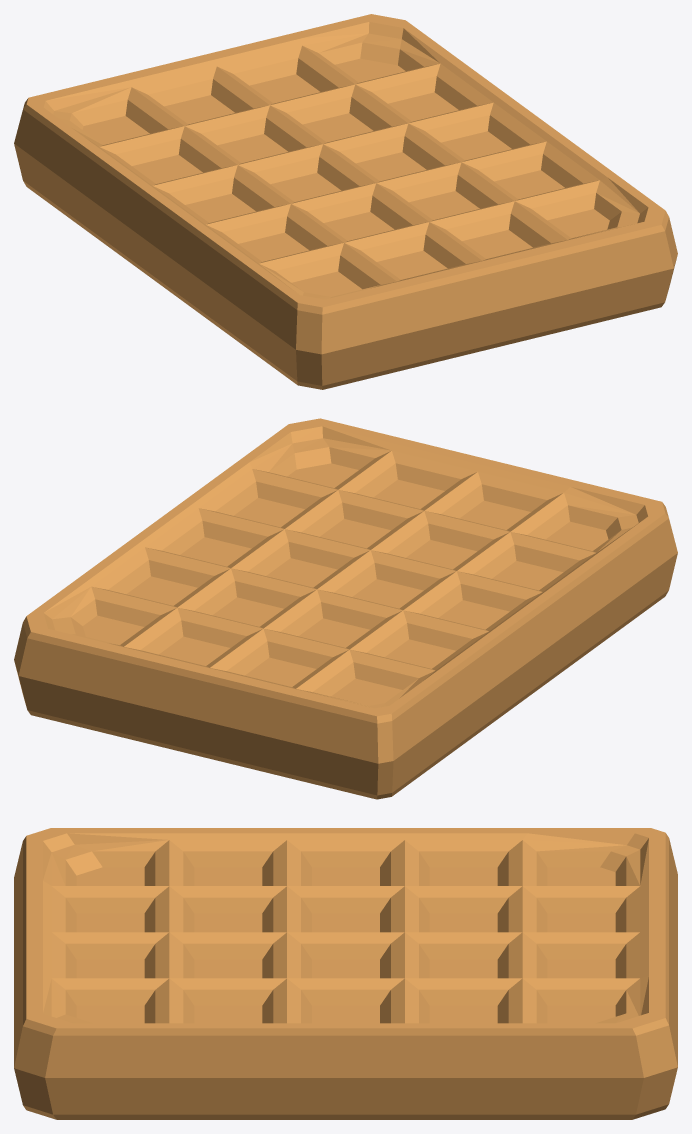
File: Waffle.obj
3 renders of one model, top to bottom at view 1: azimuth 30°, elevation 25°; view 2: azimuth 150°, elevation 25°; view 3: azimuth 270°, elevation 25°, orthographic. The views are drawn at different scales.
Visible parts, largest first — view 1: Waffle; view 2: Waffle; view 3: Waffle.
Part boxes in pixels (x1,y1,x2,y2): Waffle: (14,14,677,389); Waffle: (14,418,677,799); Waffle: (14,828,677,1119).
Bounding box in the file's own units: 1.13 × 0.2322 × 1.53.
